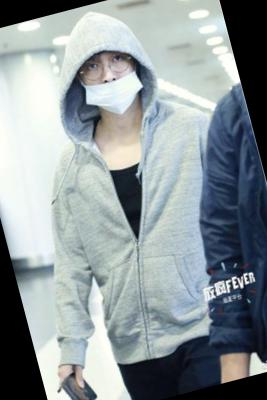mask_weared_incorrect: (72, 45, 149, 123)
